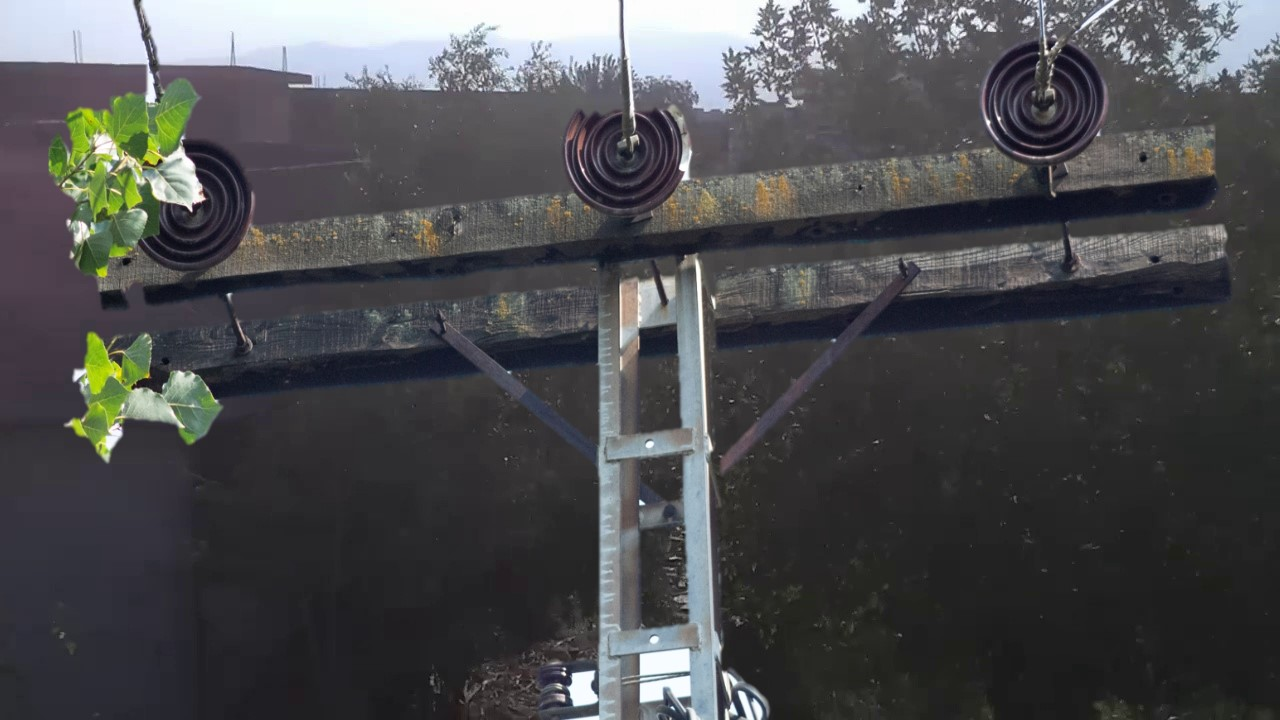defect_disc: (558, 97, 701, 217)
insulator_disc: (977, 35, 1112, 166), (144, 132, 258, 277)
